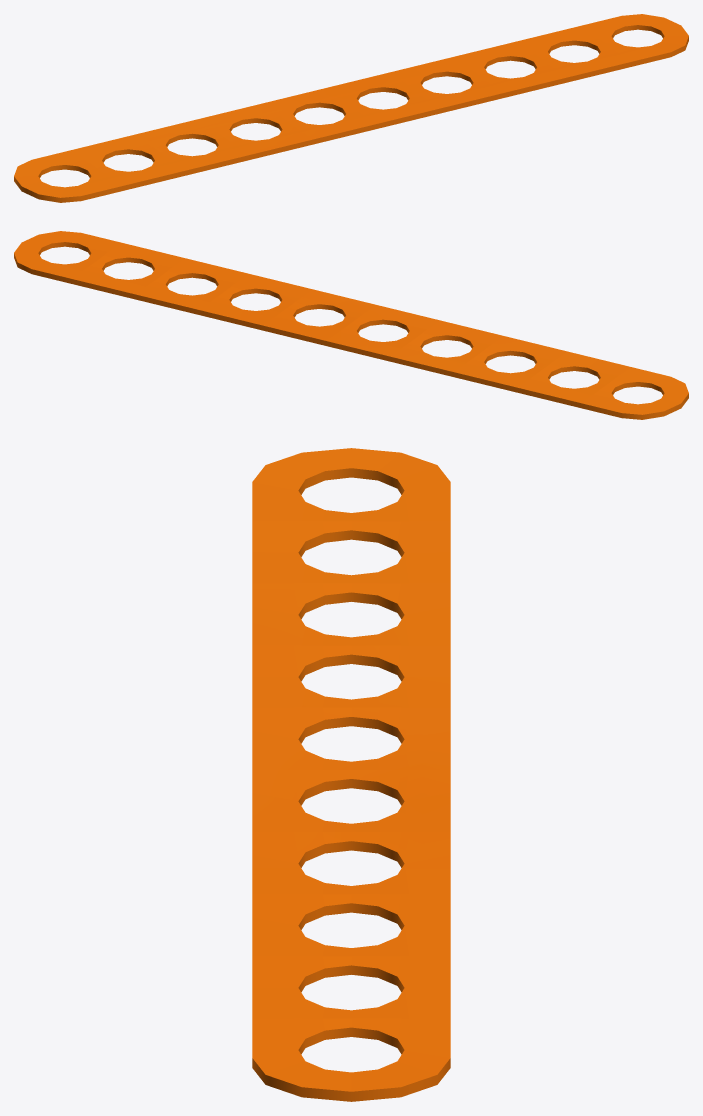
File: TenLongYellow.fbx
3 renders of one model, top to bottom at view 1: azimuth 30°, elevation 25°; view 2: azimuth 150°, elevation 25°; view 3: azimuth 270°, elevation 25°, orthographic. The views are drawn at different scales.
Visible parts, largest first — view 1: Blue10; view 2: Blue10; view 3: Blue10.
Boxes of the visible parts, x1=… form: Blue10: x1=14, y1=14, x2=688, y2=202; Blue10: x1=14, y1=231, x2=688, y2=419; Blue10: x1=252, y1=448, x2=450, y2=1101.
Bounding box in the file's own units: 26.47 × 0.1942 × 3.45.
